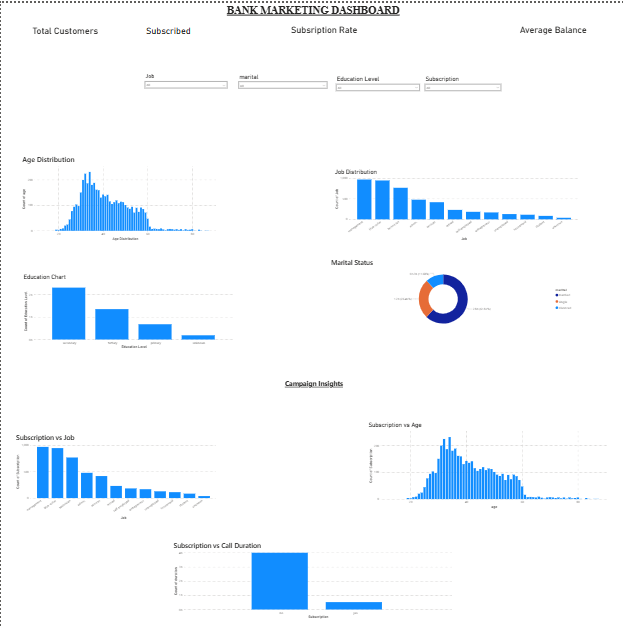

The page's visual inventory and layout, read from the dashboard file:
{"tool":"powerbi","page":{"name":"Page 1","canvas":[2500,3000],"ordinal":0},"visuals":[{"type":"kpi","fields":{"Indicator":["test.Total Customers"]},"box":[120,90,280,150],"z":0},{"type":"kpi","fields":{"Indicator":["test.Subsription Rate"]},"box":[1156.7,86.7,316.7,26.7],"z":1000},{"type":"kpi","fields":{"Indicator":["test.Subscribed Customers"]},"box":[576.7,90,326.7,43.3],"z":2000},{"type":"kpi","fields":{"Indicator":["test.Average Balance"]},"box":[2070,86.7,280,33.3],"z":3000},{"type":"textbox","box":[1060,520,250,86.7],"z":4000},{"type":"clusteredColumnChart","title":"Age Distribution","fields":{"Category":["test.age"],"Y":["CountNonNull(test.age)"]},"box":[80,606.7,786.7,350],"z":5000},{"type":"clusteredColumnChart","title":"Job Distribution","fields":{"Category":["test.job"],"Y":["CountNonNull(test.job)"]},"box":[1331.7,661.7,985,298.3],"z":6000},{"type":"donutChart","title":"Marital Status","fields":{"Category":["test.marital"],"Y":["CountNonNull(test.marital)"]},"box":[1315,1021.7,981.7,293.3],"z":7000},{"type":"clusteredColumnChart","title":"Education Chart","fields":{"Category":["test.education"],"Y":["CountNonNull(test.Education Level)"]},"box":[86.7,1080,850,310],"z":8000},{"type":"textbox","box":[948.3,1500,603.3,50],"z":9000},{"type":"clusteredColumnChart","title":"Subscription vs Job","fields":{"Category":["test.Job"],"Y":["CountNonNull(test.y)"]},"box":[56.7,1720,810,353.3],"z":10000},{"type":"clusteredColumnChart","title":"Subscription vs Age","fields":{"Category":["test.age"],"Y":["CountNonNull(test.y)"]},"box":[1463.3,1676.7,966.7,353.3],"z":11000},{"type":"clusteredColumnChart","title":"Subscription vs Call Duration","fields":{"Category":["test.Subscription"],"Y":["Sum(test.duration)"]},"box":[683.3,2150,1123.3,320],"z":12000},{"type":"textbox","box":[771.4,0,957.1,67.1],"z":13000},{"type":"slicer","fields":{"Values":["test.Subscription"]},"box":[1693.3,146.7,325,360],"z":14000},{"type":"slicer","title":"Job","fields":{"Values":["test.Job"]},"box":[551.7,146.7,351.7,331.7],"z":14001},{"type":"slicer","title":"Marital","fields":{"Values":["test.marital"]},"box":[920,146.7,376.7,350],"z":14002},{"type":"slicer","title":"Education","fields":{"Values":["test.Education Level"]},"box":[1315,146.7,355,331.7],"z":14003}]}

Visuals, with their boxes on the page's 2500x3000 design canvas (x1, y1, x2, y2). These are canvas units, not pixel positions in the 623x628 screenshot, which may show the page scaled, cropped or inside an application window:
kpi - test.Total Customers: x1=120 y1=90 x2=400 y2=240
kpi - test.Subsription Rate: x1=1157 y1=87 x2=1473 y2=113
kpi - test.Subscribed Customers: x1=577 y1=90 x2=903 y2=133
kpi - test.Average Balance: x1=2070 y1=87 x2=2350 y2=120
textbox: x1=1060 y1=520 x2=1310 y2=607
"Age Distribution" clusteredColumnChart: x1=80 y1=607 x2=867 y2=957
"Job Distribution" clusteredColumnChart: x1=1332 y1=662 x2=2317 y2=960
"Marital Status" donutChart: x1=1315 y1=1022 x2=2297 y2=1315
"Education Chart" clusteredColumnChart: x1=87 y1=1080 x2=937 y2=1390
textbox: x1=948 y1=1500 x2=1552 y2=1550
"Subscription vs Job" clusteredColumnChart: x1=57 y1=1720 x2=867 y2=2073
"Subscription vs Age" clusteredColumnChart: x1=1463 y1=1677 x2=2430 y2=2030
"Subscription vs Call Duration" clusteredColumnChart: x1=683 y1=2150 x2=1807 y2=2470
textbox: x1=771 y1=0 x2=1728 y2=67
slicer - test.Subscription: x1=1693 y1=147 x2=2018 y2=507
"Job" slicer: x1=552 y1=147 x2=903 y2=478
"Marital" slicer: x1=920 y1=147 x2=1297 y2=497
"Education" slicer: x1=1315 y1=147 x2=1670 y2=478
